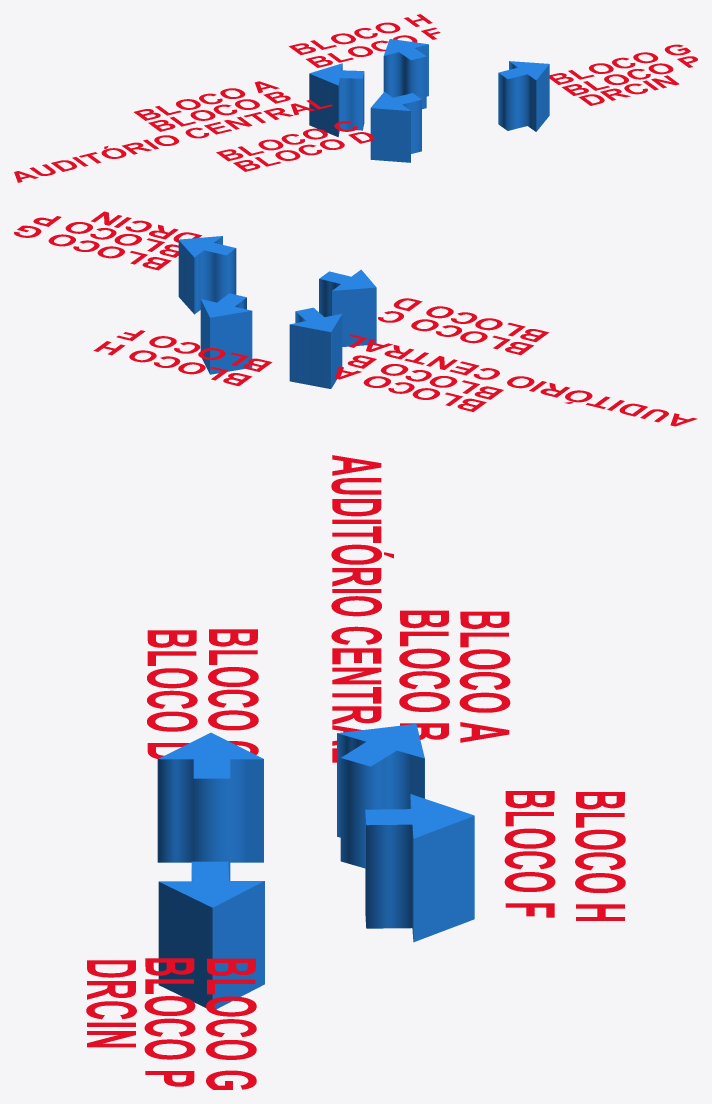
Rendered from bloco E - 1.glb.
3 renders of one model, top to bottom at view 1: azimuth 30°, elevation 25°; view 2: azimuth 150°, elevation 25°; view 3: azimuth 270°, elevation 25°, orthographic. The views are drawn at different scales.
Visible parts, largest first — view 1: Curve.003, Curve.001, Curve.002, Curve.006, Text.004, Text.014, Text.003, Text.012, Text.008, Text.002, Text.007, Text.001 (+2 smaller); view 2: Curve.003, Curve.001, Curve.006, Curve.002, Text.004, Text.014, Text.003, Text.008, Text.012, Text.002, Text.007, Text.013 (+2 smaller); view 3: Curve.006, Curve.002, Curve.001, Curve.003, Text.004, Text.003, Text.002, Text.001, Text.014, Text.012, Text.013, Text.008 (+2 smaller).
Part boxes in pixels (bbox=[...]): Curve.003: bbox=[309, 63, 364, 137]; Curve.001: bbox=[498, 61, 549, 131]; Curve.002: bbox=[370, 92, 421, 162]; Curve.006: bbox=[383, 39, 428, 109]; Text.004: bbox=[14, 99, 332, 182]; Text.014: bbox=[148, 91, 290, 131]; Text.003: bbox=[549, 44, 690, 84]; Text.012: bbox=[289, 14, 432, 54]; Text.008: bbox=[233, 132, 374, 171]; Text.002: bbox=[134, 81, 279, 120]; Text.007: bbox=[216, 121, 357, 161]; Text.001: bbox=[562, 56, 697, 95]; Curve.003: bbox=[289, 307, 342, 388]; Curve.001: bbox=[178, 236, 236, 314]; Curve.006: bbox=[200, 293, 252, 374]; Curve.002: bbox=[319, 269, 376, 346]; Text.004: bbox=[349, 334, 697, 426]; Text.014: bbox=[347, 355, 503, 399]; Text.003: bbox=[14, 225, 171, 270]; Text.008: bbox=[393, 298, 548, 342]; Text.012: bbox=[93, 341, 252, 386]; Text.002: bbox=[335, 366, 486, 411]; Text.007: bbox=[378, 311, 533, 355]; Text.013: bbox=[116, 330, 272, 371]; Curve.006: bbox=[365, 794, 474, 942]; Curve.002: bbox=[157, 732, 263, 880]; Curve.001: bbox=[158, 861, 264, 1009]; Curve.003: bbox=[337, 724, 424, 868]; Text.004: bbox=[331, 455, 393, 762]; Text.003: bbox=[206, 958, 256, 1089]; Text.002: bbox=[459, 611, 510, 742]; Text.001: bbox=[144, 958, 195, 1086]; Text.014: bbox=[399, 610, 449, 739]; Text.012: bbox=[575, 792, 625, 920]; Text.013: bbox=[504, 791, 555, 917]; Text.008: bbox=[147, 630, 197, 758].
Size of the model in its own units: 4.55 by 0.3536 by 1.65.
